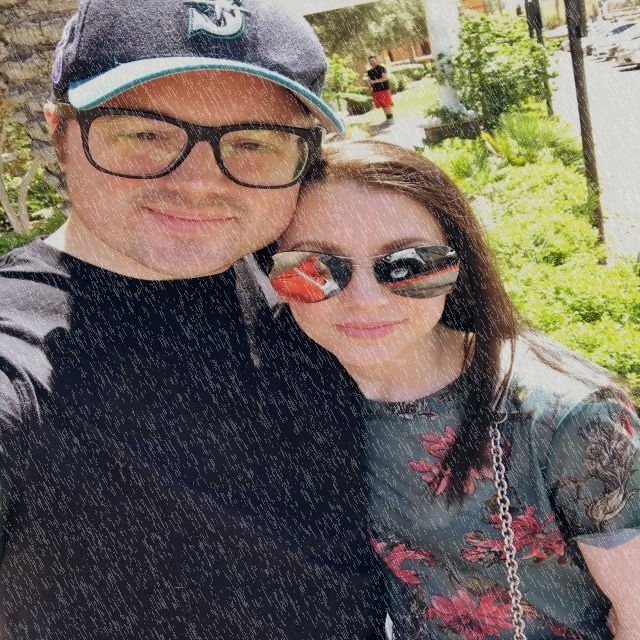pessoa: (262, 135, 637, 639), (360, 54, 398, 128)
